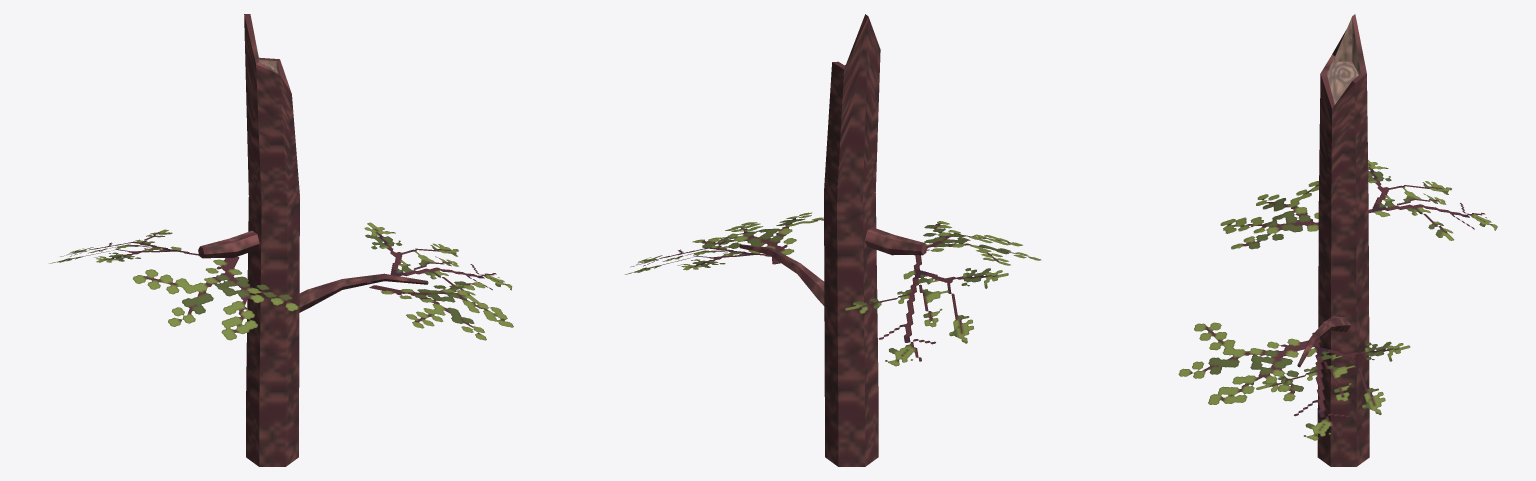
The model's file is trunk_01.fbx.
The picture shows the model from 3 angles, left to right: view 1: azimuth 30°, elevation 25°; view 2: azimuth 150°, elevation 25°; view 3: azimuth 270°, elevation 25°; orthographic projection. The views are drawn at different scales.
Visible parts, largest first — view 1: trunk_01; view 2: trunk_01; view 3: trunk_01.
Part boxes in pixels (x1,y1,x2,y2): trunk_01: (49, 14, 513, 466); trunk_01: (625, 14, 1041, 466); trunk_01: (1178, 14, 1497, 466).
Bounding box in the file's own units: 1931 × 1845 × 1554.
1 material, 1 textured.
